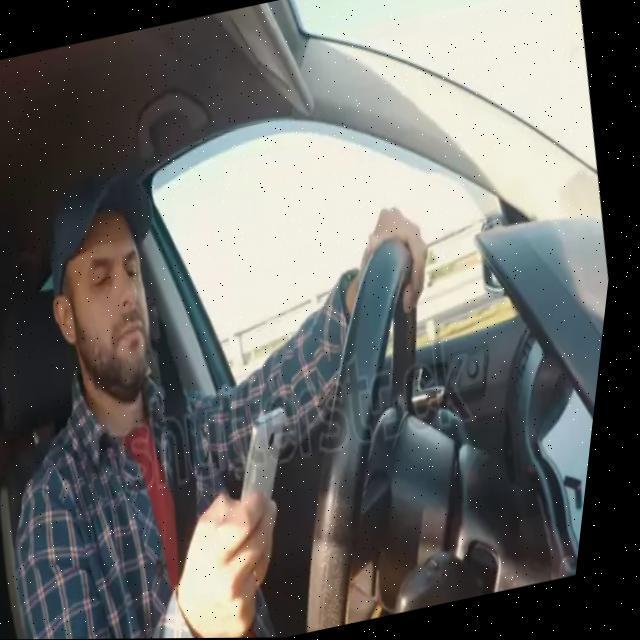PhoneCall: (235, 400, 316, 530)
